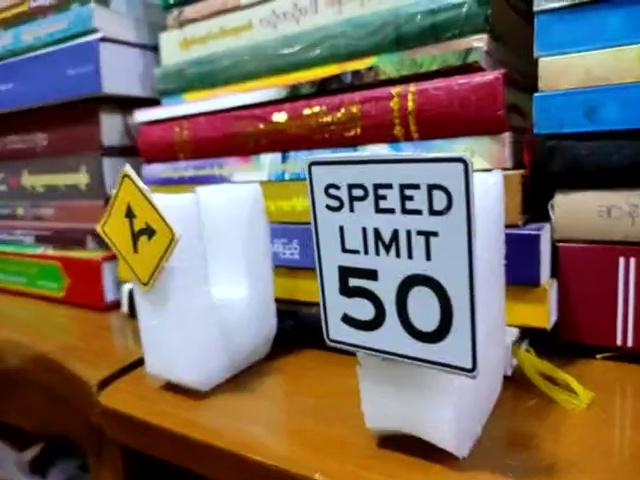Speed Limit 50: (303, 153, 476, 374)
Straight Or Right Sign: (99, 171, 176, 293)
